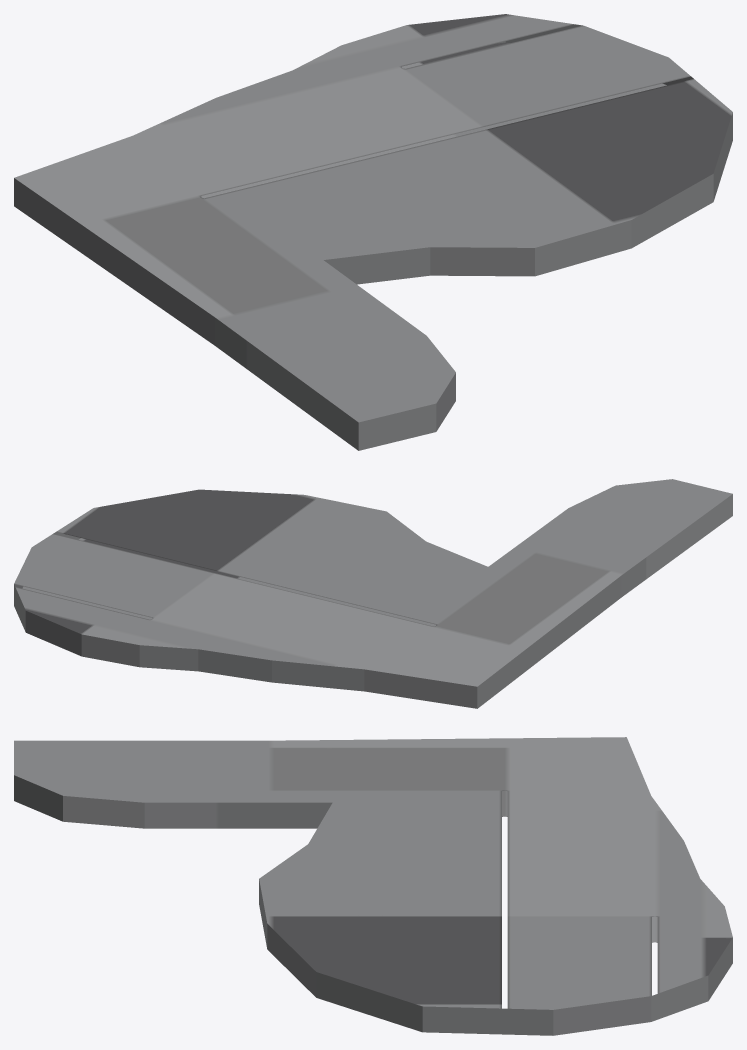
The picture shows the model from 3 angles, top to bottom: view 1: azimuth 30°, elevation 25°; view 2: azimuth 150°, elevation 25°; view 3: azimuth 270°, elevation 25°; orthographic projection. The views are drawn at different scales.
Bounding box in the file's own units: 0.79 × 0.035 × 0.88.
